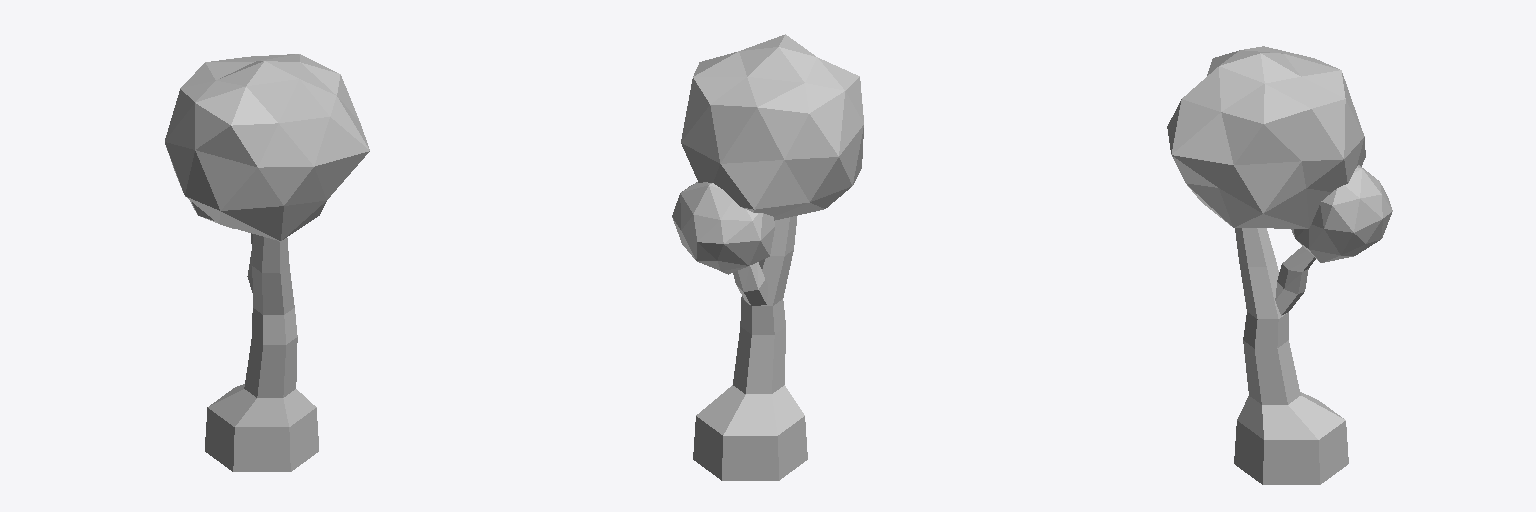
File: Tree2.obj
3 views of the same model, side by side, from view 1: azimuth 30°, elevation 25°; view 2: azimuth 150°, elevation 25°; view 3: azimuth 270°, elevation 25° (orthographic).
Parts seen in each view (by area): view 1: Icosphere, Cylinder; view 2: Icosphere, Cylinder, Icosphere.001_Icosphere.003, Cylinder.001; view 3: Icosphere, Cylinder, Icosphere.001_Icosphere.003, Cylinder.001.
Boxes of the visible parts, box(x1,y1,x2,y2) form: Icosphere: box(165, 54, 369, 240); Cylinder: box(205, 235, 318, 471); Icosphere: box(681, 34, 863, 220); Cylinder: box(693, 216, 807, 480); Icosphere.001_Icosphere.003: box(672, 182, 774, 274); Cylinder.001: box(733, 262, 767, 305); Icosphere: box(1167, 46, 1365, 228); Cylinder: box(1234, 228, 1348, 484); Icosphere.001_Icosphere.003: box(1291, 165, 1392, 262); Cylinder.001: box(1275, 246, 1315, 315).
Bounding box in the file's own units: 7.21 × 17.16 × 8.67.